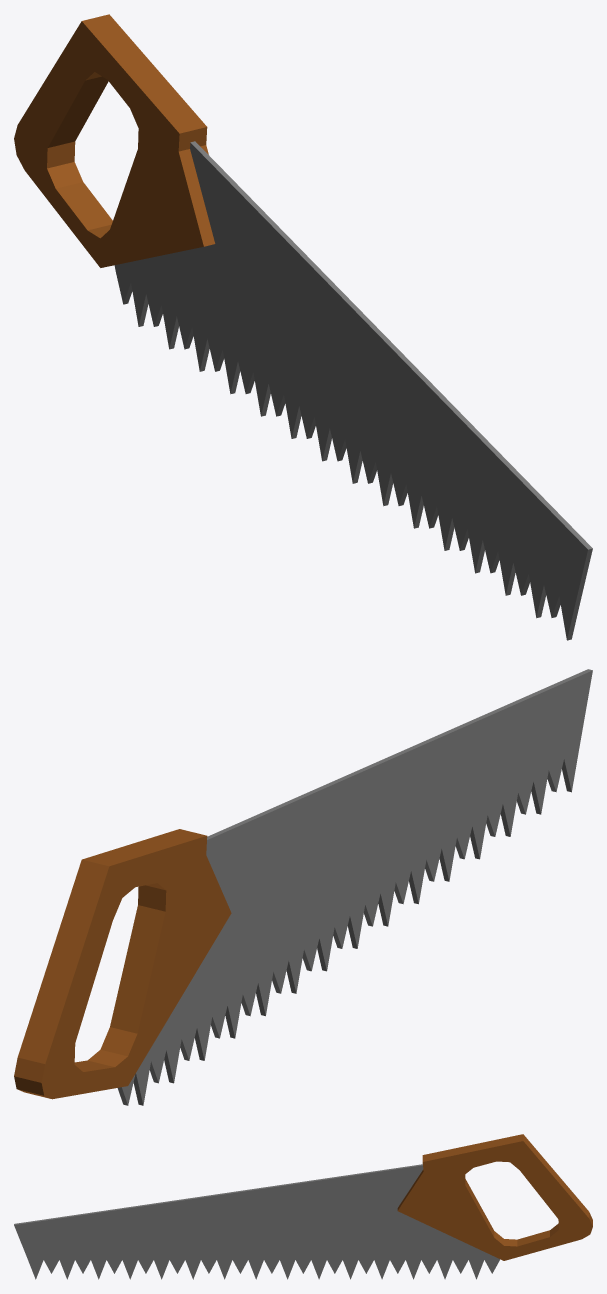
File: VTool_Saw.fbx
3 views of the same model, one above another, from view 1: azimuth 30°, elevation 25°; view 2: azimuth 150°, elevation 25°; view 3: azimuth 270°, elevation 25° (orthographic). The views are drawn at different scales.
Parts seen in each view (by area): view 1: Saw_Blade, Saw_Handle; view 2: Saw_Blade, Saw_Handle; view 3: Saw_Blade, Saw_Handle.
Boxes of the visible parts, x1,y1,x2,y2 form: Saw_Blade: (114,141,592,640); Saw_Handle: (14,14,215,267); Saw_Blade: (117,669,592,1105); Saw_Handle: (14,829,231,1099); Saw_Blade: (14,1164,499,1279); Saw_Handle: (397,1134,592,1260).
Bounding box in the file's own units: 0.0522 × 0.497 × 1.84.
